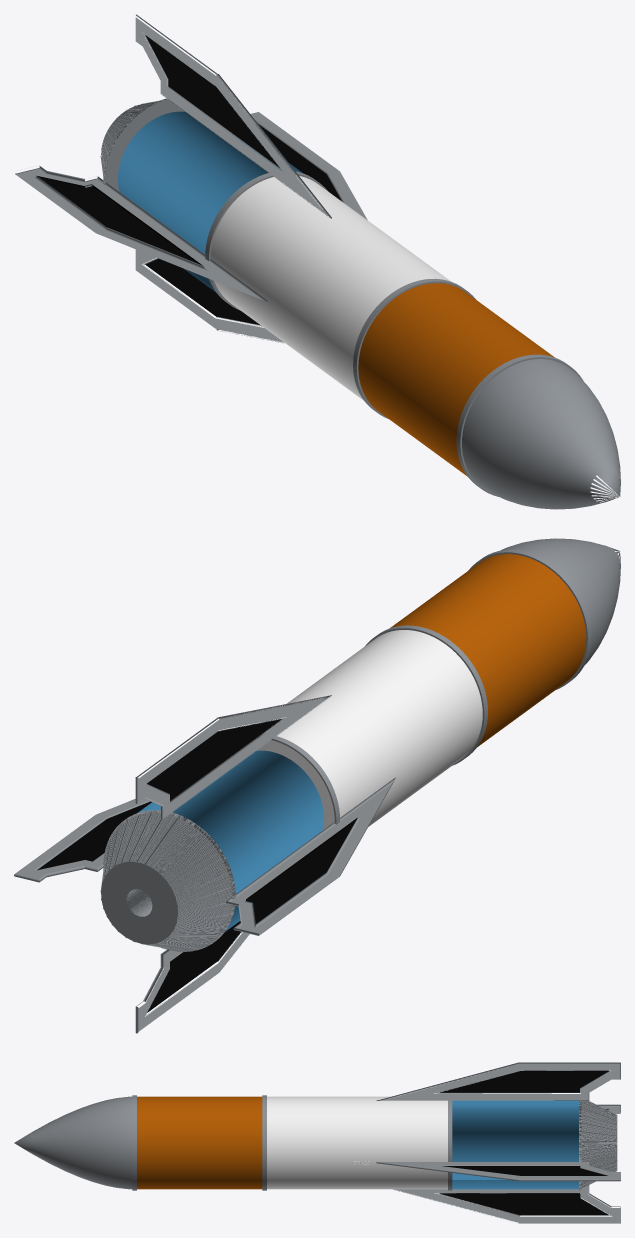
Rendered from rocket.glb.
3 renders of one model, top to bottom at view 1: azimuth 30°, elevation 25°; view 2: azimuth 150°, elevation 25°; view 3: azimuth 270°, elevation 25°, orthographic. The views are drawn at different scales.
Parts seen in each view (by area): view 1: name (×15); view 2: name (×34); view 3: name (×26).
Boxes of the visible parts, x1=… form: name (×15): x1=15, y1=14, x2=620, y2=509; name (×34): x1=14, y1=538, x2=620, y2=1033; name (×26): x1=14, y1=1062, x2=620, y2=1223.
Bounding box in the file's own units: 0.1215 × 0.1215 × 0.4154.
